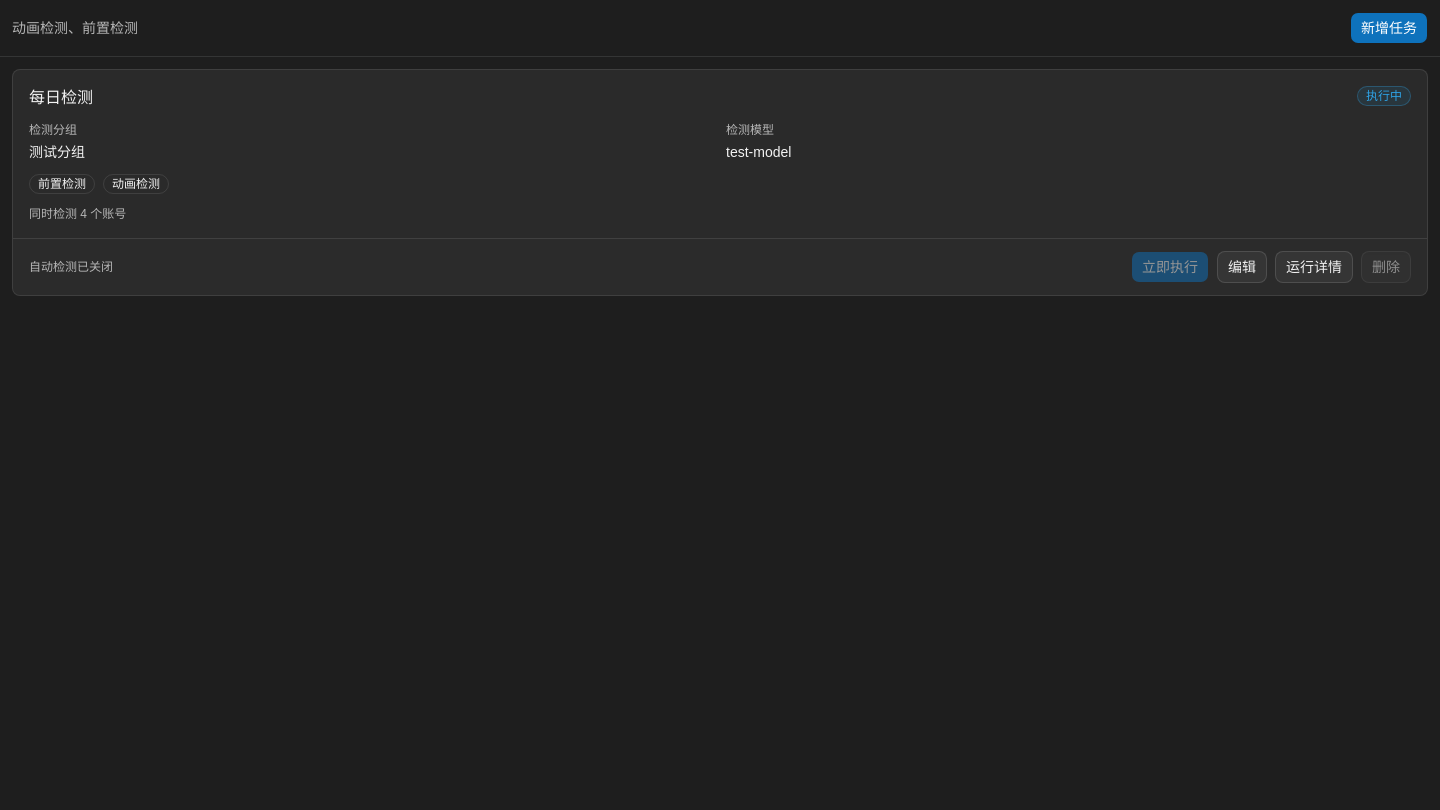
Test: 运行中的任务禁止重复启动和删除，仍可打开详情取消
The image size is (1440, 810).
Expected: the button "立即执行" is disabled, [1131,251,1209,283]
Expected: the button "删除" is disabled, [1361,251,1411,283]
Click the button "运行详情". click: {"x": 1314, "y": 267}
box: [1275,251,1353,283]
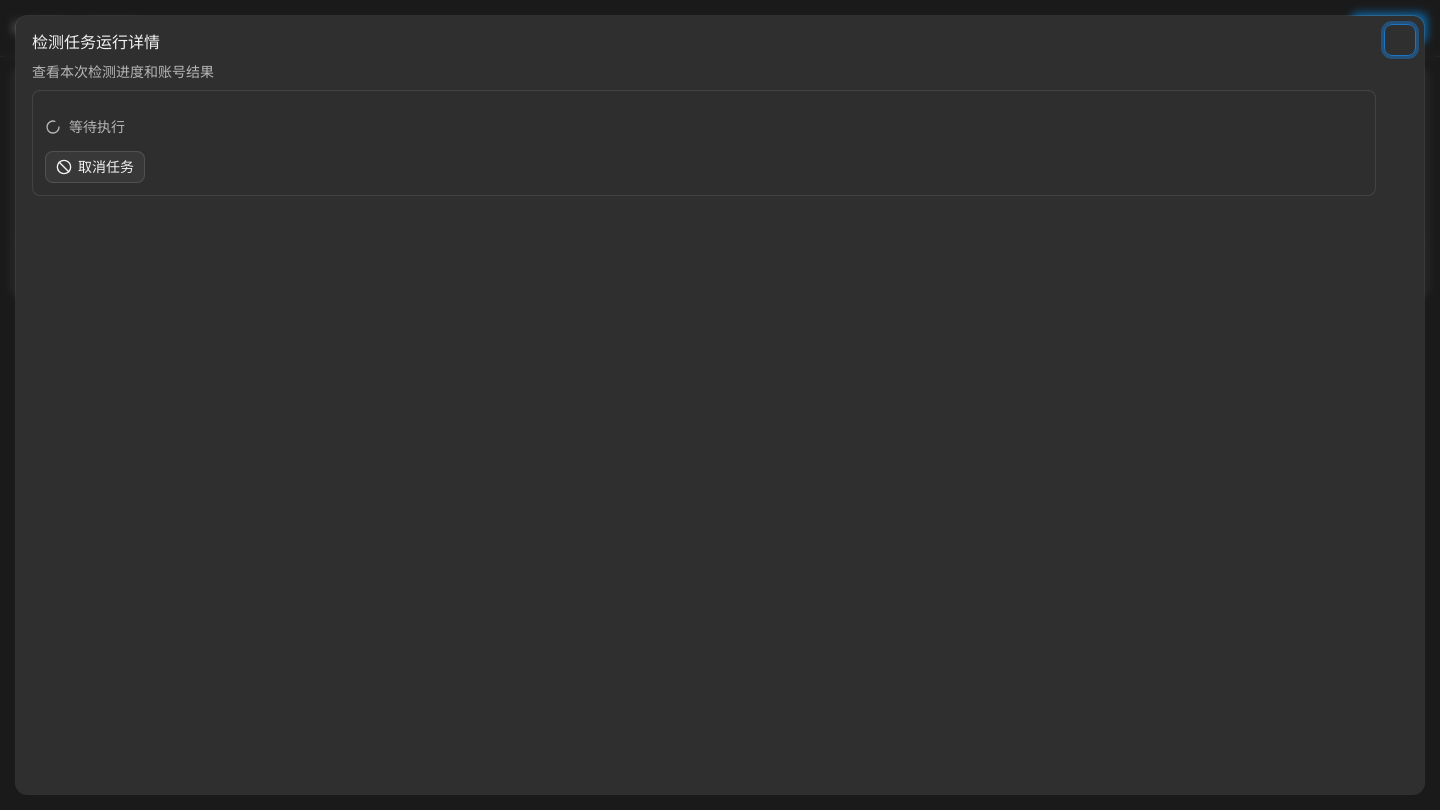
Expected: the button "取消任务" is enabled, [45,151,145,183]
